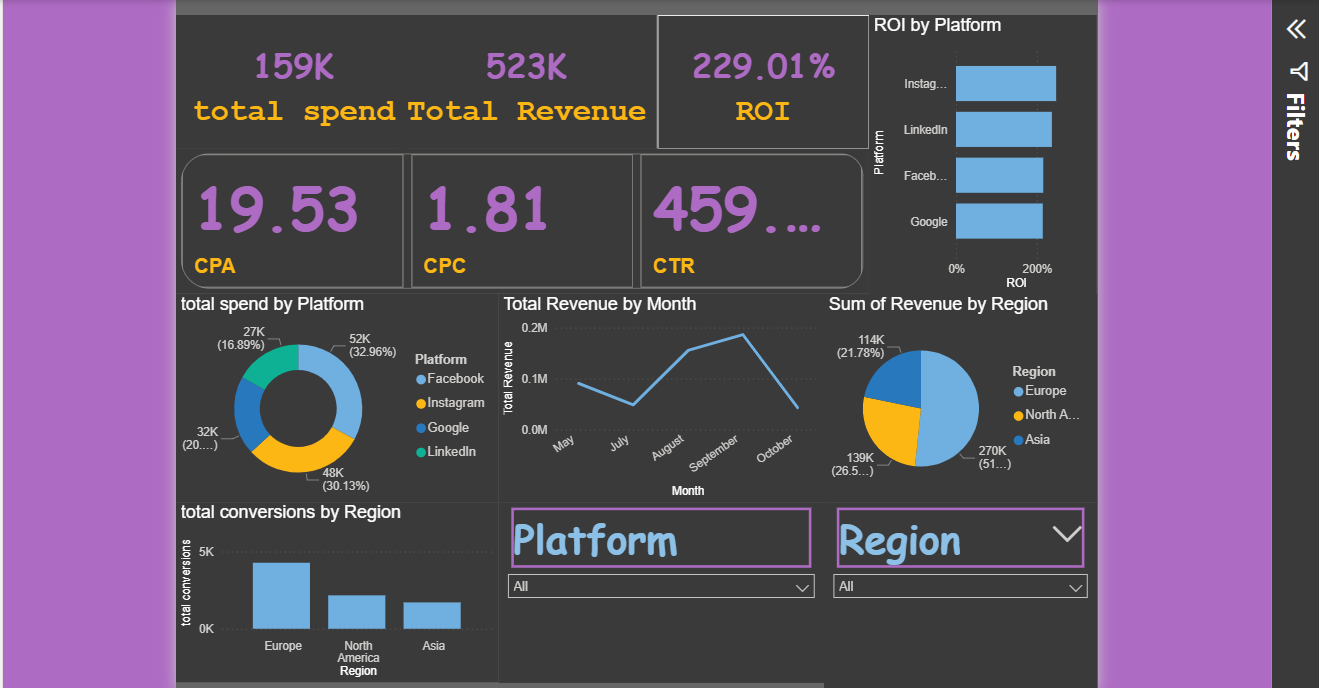

The dashboard page shown, as its layout file describes it:
{"tool":"powerbi","page":{"name":"Page 2","canvas":[960,720],"ordinal":1},"visuals":[{"type":"card","fields":{"Values":["campaignPerformance.total spend"]},"box":[0,15.6,244,139],"z":0},{"type":"card","fields":{"Values":["campaignPerformance.Total Revenue"]},"box":[229.8,15.6,270.4,139.1],"z":1000},{"type":"card","fields":{"Values":["campaignPerformance.ROI"]},"box":[501.7,15.6,220.4,139.1],"z":2000},{"type":"cardVisual","fields":{"Data":["campaignPerformance.CPA","campaignPerformance.CPC","campaignPerformance.CTR"]},"box":[0,154.7,722.1,151.6],"z":3000},{"type":"clusteredBarChart","fields":{"Category":["campaigninfo.Platform"],"Y":["campaignPerformance.ROI"]},"box":[722.1,15.6,237.6,290.7],"z":4000},{"type":"donutChart","fields":{"Category":["campaigninfo.Platform"],"Y":["campaignPerformance.total spend"]},"box":[0,306.3,336,217.3],"z":5000},{"type":"lineChart","fields":{"Category":["campaigninfo.StartDate.Variation.Date Hierarchy.Month"],"Y":["campaignPerformance.Total Revenue"]},"box":[336,306.3,339.2,217.3],"z":6000},{"type":"clusteredColumnChart","fields":{"Category":["campaigninfo.Region"],"Y":["campaignPerformance.total conversions"]},"box":[0,523.6,336,187.6],"z":7000},{"type":"slicer","fields":{"Values":["campaigninfo.Platform"]},"box":[336,524,339,188],"z":7001},{"type":"pieChart","fields":{"Category":["campaigninfo.Region"],"Y":["Sum(campaignPerformance.Revenue)"]},"box":[675.2,306.3,284.5,217.3],"z":7002},{"type":"slicer","fields":{"Values":["campaigninfo.Region"]},"box":[675.2,523.6,284.5,196.9],"z":7003}]}

Visuals, with their boxes on the page's 960x720 design canvas (x1, y1, x2, y2). These are canvas units, not pixel positions in the 1319x688 screenshot, which may show the page scaled, cropped or inside an application window:
card - campaignPerformance.total spend: BBox(0, 16, 244, 155)
card - campaignPerformance.Total Revenue: BBox(230, 16, 500, 155)
card - campaignPerformance.ROI: BBox(502, 16, 722, 155)
cardVisual - campaignPerformance.CPA x campaignPerformance.CPC: BBox(0, 155, 722, 306)
clusteredBarChart - campaigninfo.Platform x campaignPerformance.ROI: BBox(722, 16, 960, 306)
donutChart - campaigninfo.Platform x campaignPerformance.total spend: BBox(0, 306, 336, 524)
lineChart - campaigninfo.StartDate.Variation.Date Hierarchy.Month x campaignPerformance.Total Revenue: BBox(336, 306, 675, 524)
clusteredColumnChart - campaigninfo.Region x campaignPerformance.total conversions: BBox(0, 524, 336, 711)
slicer - campaigninfo.Platform: BBox(336, 524, 675, 712)
pieChart - campaigninfo.Region x Sum(campaignPerformance.Revenue): BBox(675, 306, 960, 524)
slicer - campaigninfo.Region: BBox(675, 524, 960, 720)
